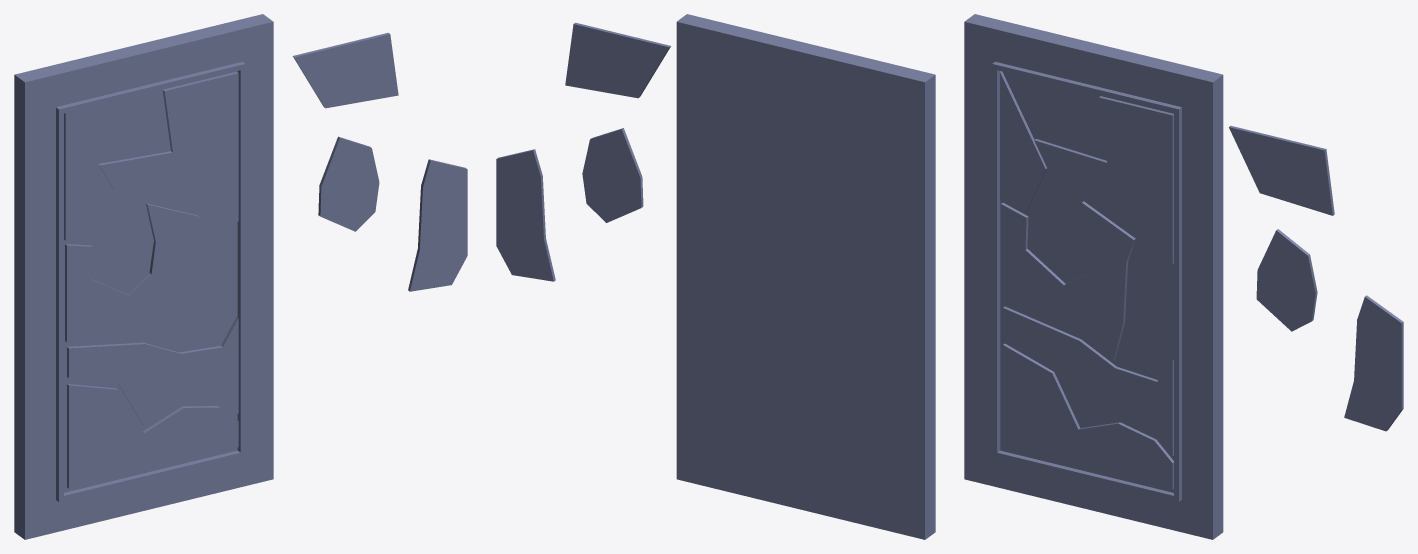
File: mirror.fbx
3 renders of one model, left to right at view 1: azimuth 30°, elevation 25°; view 2: azimuth 150°, elevation 25°; view 3: azimuth 330°, elevation 25°, orthographic.
Parts seen in each view (by area): view 1: frame, glass_pieces, shard_3, shard_1, shard_2; view 2: frame, shard_3, shard_1, shard_2; view 3: frame, glass_pieces, shard_3, shard_1, shard_2.
Part boxes in pixels (<box>): frame: <box>14,14,273,539</box>; glass_pieces: <box>64,72,238,488</box>; shard_3: <box>408,159,467,291</box>; shard_1: <box>292,32,398,108</box>; shard_2: <box>318,136,379,231</box>; frame: <box>676,14,935,539</box>; shard_3: <box>496,149,555,281</box>; shard_1: <box>565,22,670,98</box>; shard_2: <box>582,128,643,222</box>; frame: <box>964,14,1223,539</box>; glass_pieces: <box>1000,71,1173,489</box>; shard_3: <box>1344,295,1403,431</box>; shard_1: <box>1229,125,1334,215</box>; shard_2: <box>1256,229,1317,331</box>.
Size of the model in its own units: 199 by 198 by 10.63.
